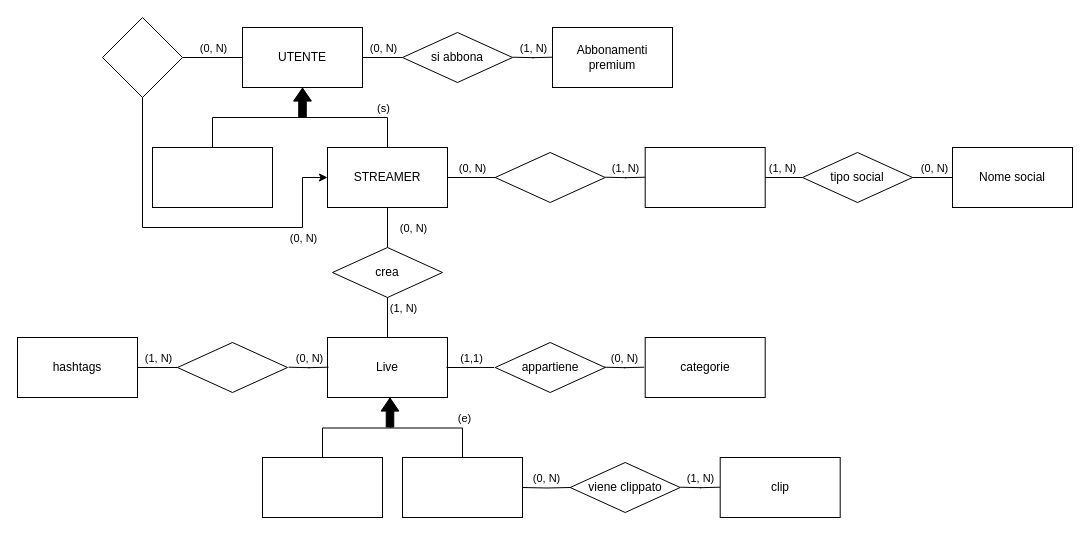
Image size: 1090x535. Some labels were removed from this diagram. Each missing label, with the box of its shape:
Link di social: (644, 146, 765, 208)
link social: (494, 152, 605, 202)
Live in corso: (262, 456, 382, 518)
Live passate: (402, 456, 522, 518)
segue: (102, 16, 182, 98)
SPETTATORE: (152, 146, 272, 208)
tagga: (176, 342, 288, 392)
